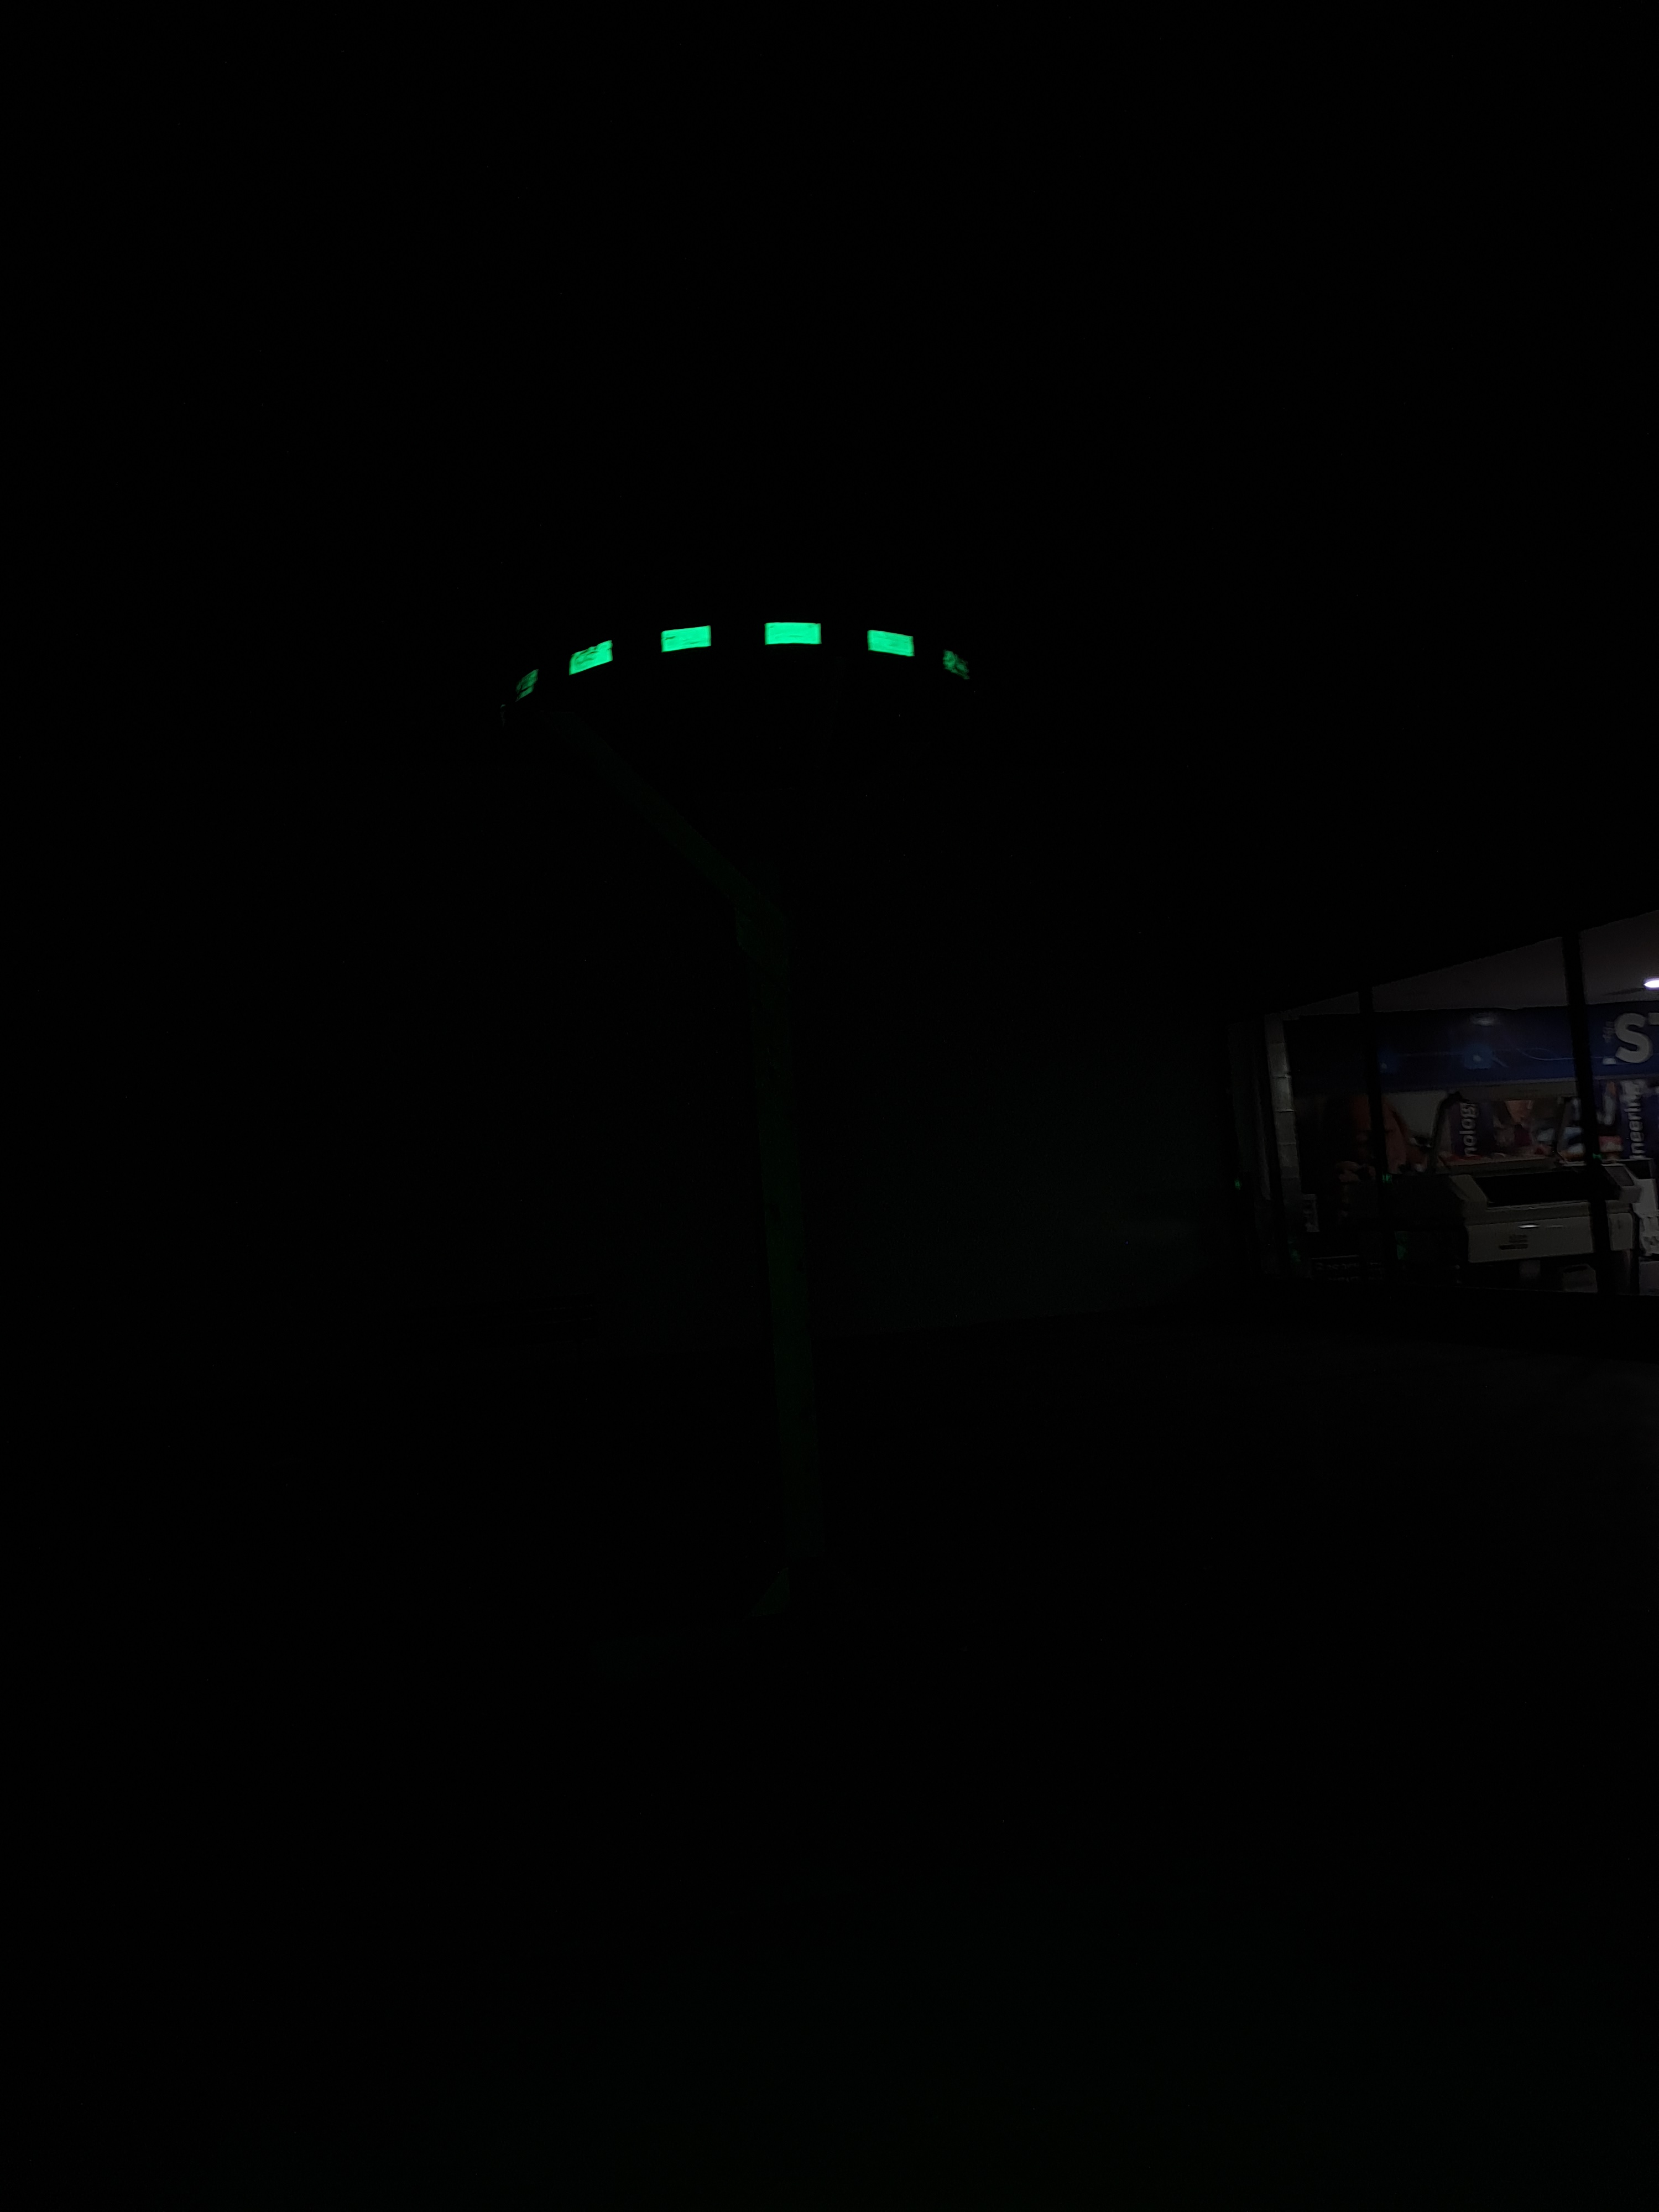hoop: (467, 606, 997, 712)
